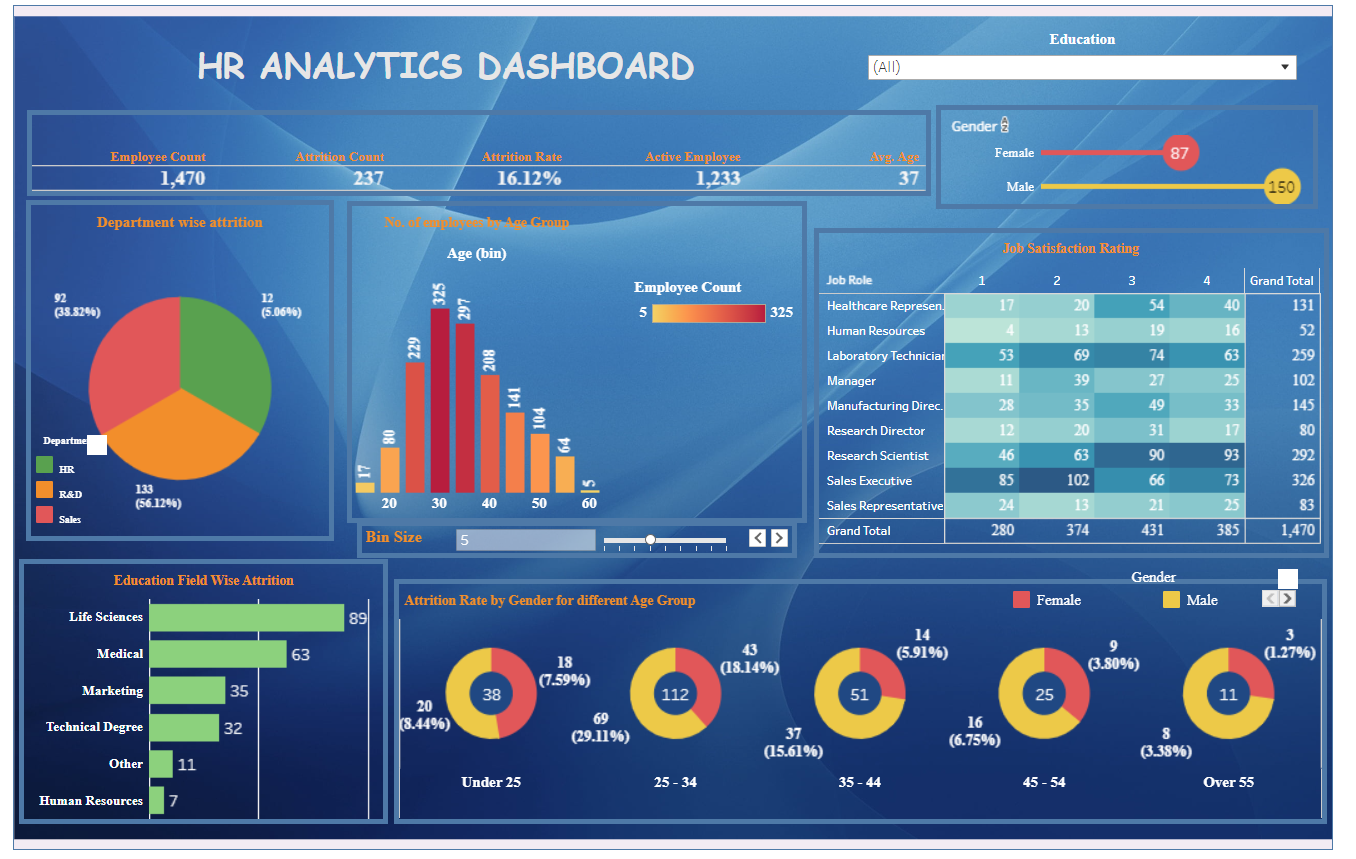

This screenshot's page, from the dashboard's own definition file:
{"tool":"tableau","page":{"name":"Dashboard 1","canvas":[1080,700],"ordinal":0},"visuals":[{"type":"image","param":"Image/1725491-line-blue-faded-background-backgrounds-abstract.jpg","box":[8,8,1064,684]},{"type":"filter","title":"Department wise attrition","param":"[federated.1hdac9g0jwe0211ekn94g1kx0o6j].[none:Education:nk]","box":[695,33,345,53]},{"type":"text","box":[66,42,584,34]},{"type":"worksheet","title":"attrition by gender","mark":"Automatic","rows":["Gender"],"cols":["Calculation_792915070321201152","Calculation_792915070321201152"],"box":[750,92,306,83]},{"type":"worksheet","title":"kpi","mark":"Automatic","box":[23,96,723,69]},{"type":"worksheet","title":"Department wise attrition","mark":"Pie","box":[22,168,247,273]},{"type":"worksheet","title":"No. of employees by Age Group","mark":"Automatic","rows":["Employee Count"],"cols":["Age (bin)"],"box":[279,169,368,257]},{"type":"worksheet","title":"Job Satisfaction Rating","mark":"Square","rows":["Job Role"],"cols":["Job Satisfaction"],"box":[653,190,412,264]},{"type":"legend","title":"No. of employees by Age Group","param":"[federated.1hdac9g0jwe0211ekn94g1kx0o6j].[sum:Employee Count:qk]","box":[509,231,132,64]},{"type":"legend","title":"Department wise attrition","param":"[federated.1hdac9g0jwe0211ekn94g1kx0o6j].[none:Department:nk]","box":[27,356,60,78]},{"type":"parameter","param":"[Parameters].[Parameter 1]","box":[287,425,352,29]},{"type":"worksheet","title":"Education Field Wise Attrition","mark":"Automatic","rows":["Education Field"],"cols":["Calculation_792915070321201152"],"box":[17,455,295,212]},{"type":"legend","title":"Attrition Rate","param":"[federated.1hdac9g0jwe0211ekn94g1kx0o6j].[none:Gender:nk]","box":[808.6,463.4,231,34.8]},{"type":"worksheet","title":"Attrition Rate","mark":"Pie","rows":["Calculation_792915070349783048","Calculation_792915070349783048"],"cols":["CF_age band"],"box":[317,471,746,196]}]}

Visuals, with their boxes in screenshot pixels (x1, y1, x2, y2), scaled from the page's 1080x700 canvas onto the 1356x859 screenshot:
image: {"x1": 10, "y1": 10, "x2": 1346, "y2": 849}
"Department wise attrition" filter: {"x1": 873, "y1": 40, "x2": 1306, "y2": 106}
text: {"x1": 83, "y1": 52, "x2": 816, "y2": 93}
"attrition by gender" worksheet: {"x1": 942, "y1": 113, "x2": 1326, "y2": 215}
"kpi" worksheet: {"x1": 29, "y1": 118, "x2": 937, "y2": 202}
"Department wise attrition" worksheet (Pie marks): {"x1": 28, "y1": 206, "x2": 338, "y2": 541}
"No. of employees by Age Group" worksheet: {"x1": 350, "y1": 207, "x2": 812, "y2": 523}
"Job Satisfaction Rating" worksheet (Square marks): {"x1": 820, "y1": 233, "x2": 1337, "y2": 557}
"No. of employees by Age Group" legend: {"x1": 639, "y1": 283, "x2": 805, "y2": 362}
"Department wise attrition" legend: {"x1": 34, "y1": 437, "x2": 109, "y2": 533}
parameter: {"x1": 360, "y1": 522, "x2": 802, "y2": 557}
"Education Field Wise Attrition" worksheet: {"x1": 21, "y1": 558, "x2": 392, "y2": 819}
"Attrition Rate" legend: {"x1": 1015, "y1": 569, "x2": 1305, "y2": 611}
"Attrition Rate" worksheet (Pie marks): {"x1": 398, "y1": 578, "x2": 1335, "y2": 819}
